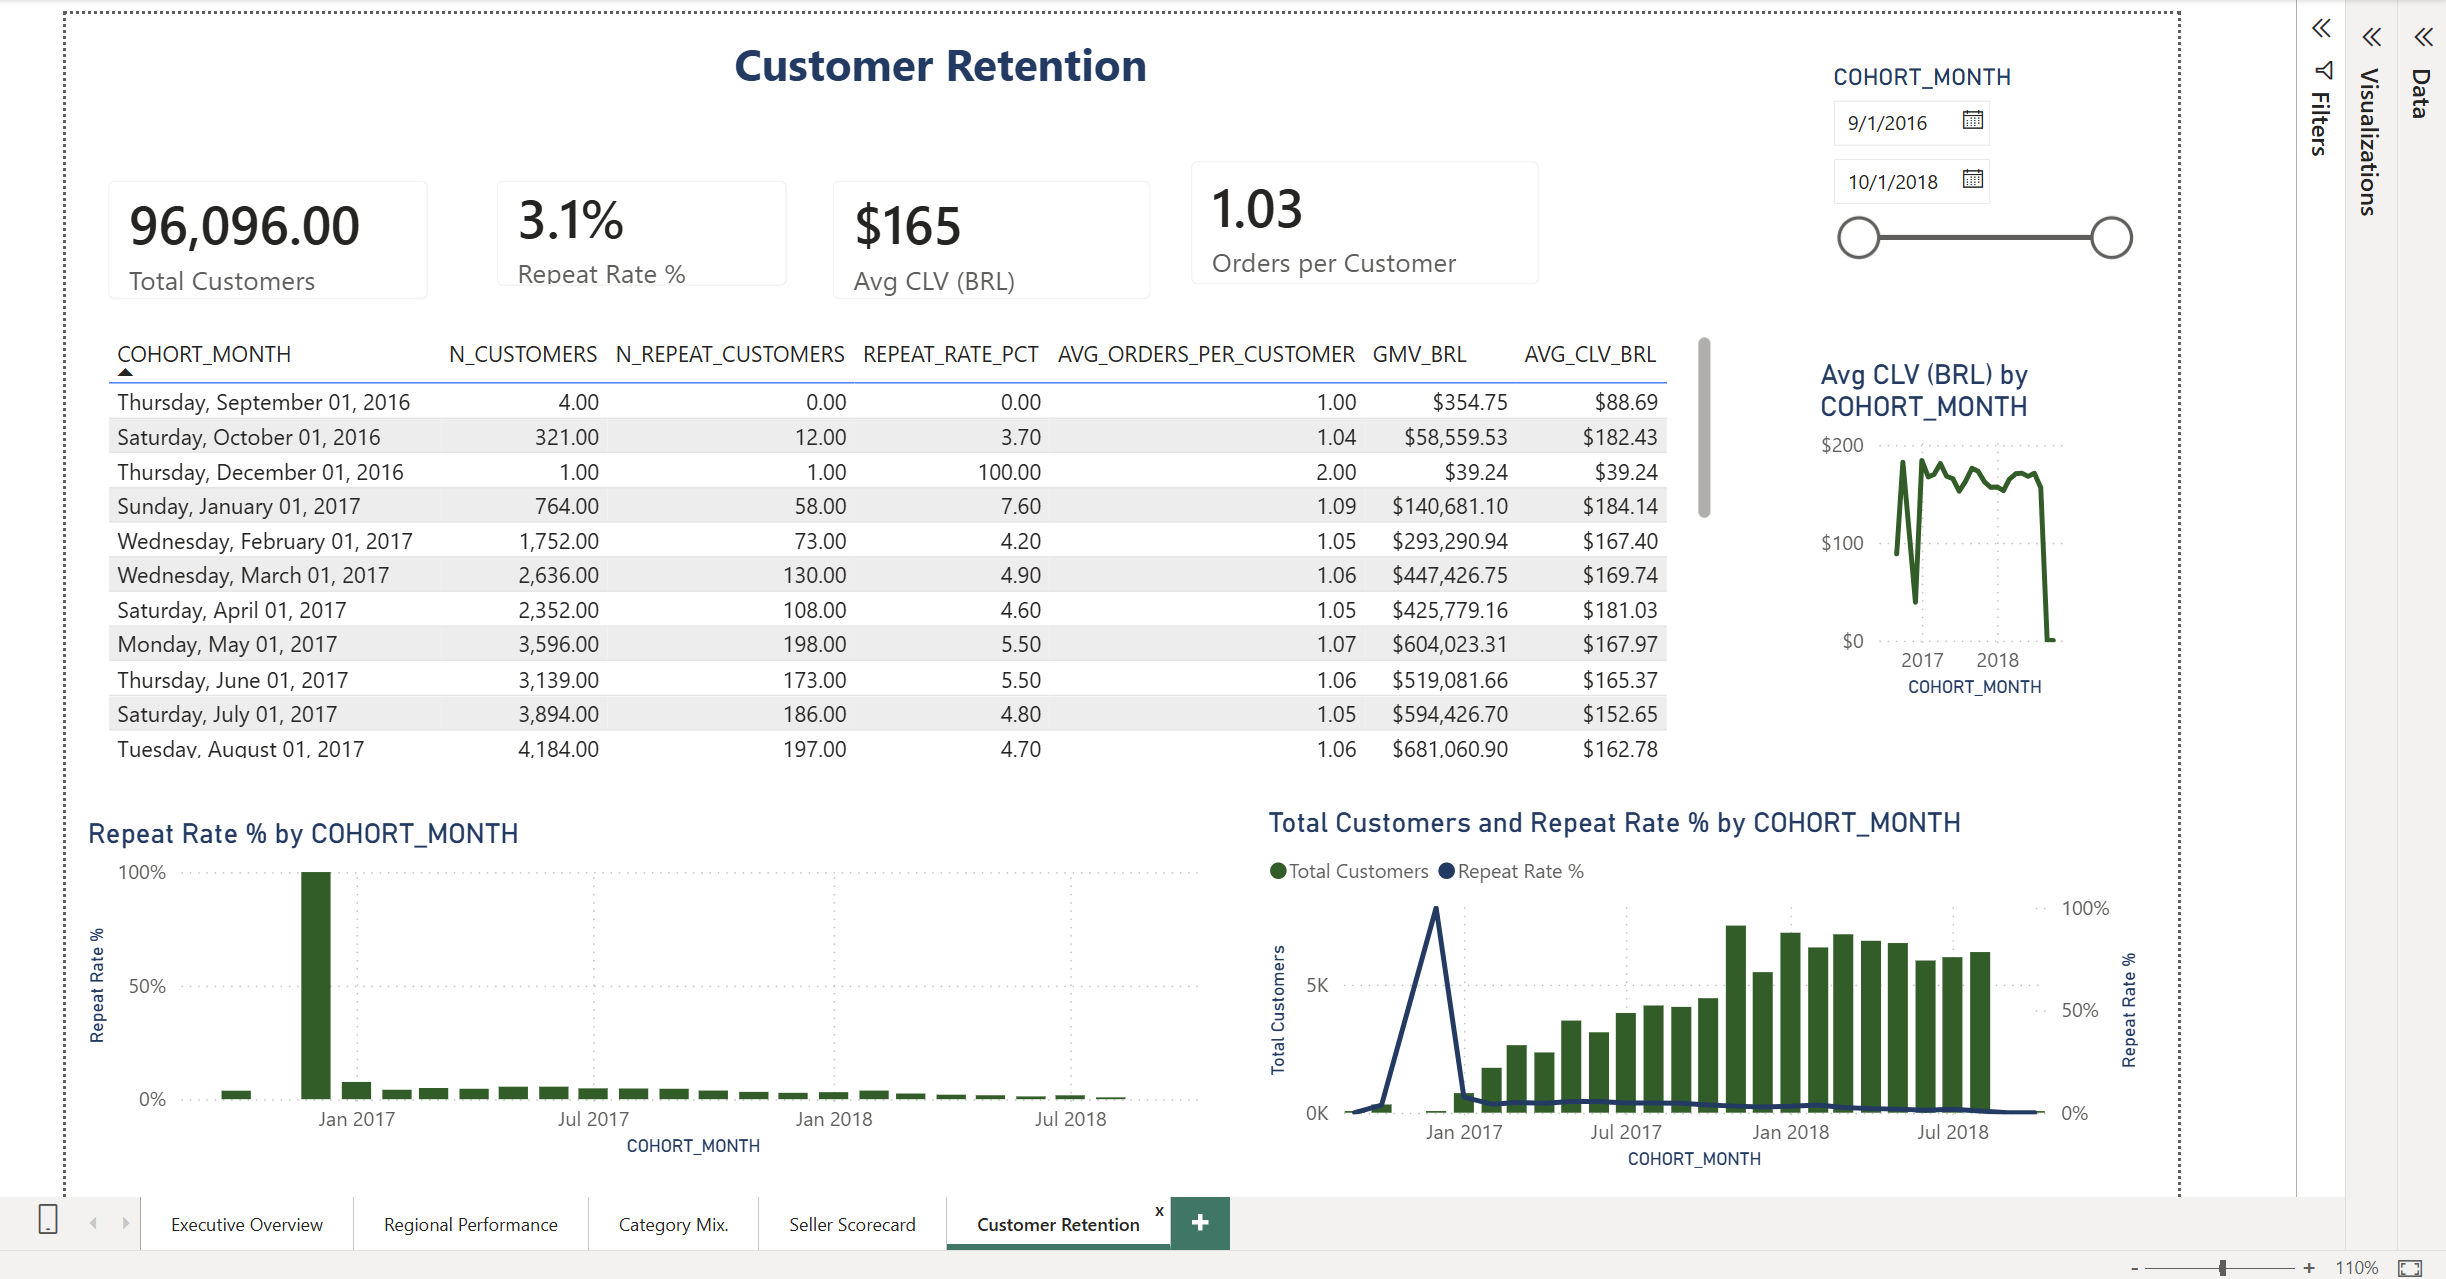

This screenshot's page, from the dashboard's own definition file:
{"tool":"powerbi","page":{"name":" Customer Retention","canvas":[1280,720],"ordinal":4},"visuals":[{"type":"cardVisual","fields":{"Data":["_Measures.Total Customers"]},"box":[8.2,83.6,228.2,106.4],"z":0},{"type":"cardVisual","fields":{"Data":["_Measures.Repeat Rate %"]},"box":[243.6,83.6,210.9,98.2],"z":1000},{"type":"cardVisual","fields":{"Data":["_Measures.Avg CLV (BRL)"]},"box":[447.3,83.6,227.3,106.4],"z":2000},{"type":"cardVisual","fields":{"Data":["_Measures.Orders per Customer"]},"box":[664.5,71.8,245.5,110],"z":3000},{"type":"lineClusteredColumnComboChart","fields":{"Y":["_Measures.Total Customers"],"Y2":["_Measures.Repeat Rate %"],"Category":["MART_CUSTOMER_COHORTS.COHORT_MONTH"]},"box":[723.6,480,537.3,224.5],"z":4000},{"type":"clusteredColumnChart","fields":{"Y":["_Measures.Repeat Rate %"],"Category":["MART_CUSTOMER_COHORTS.COHORT_MONTH"]},"box":[8.2,486.4,701.8,210],"z":5000},{"type":"lineChart","fields":{"Y":["_Measures.Avg CLV (BRL)"],"Category":["MART_CUSTOMER_COHORTS.COHORT_MONTH"]},"box":[1058.1,208.2,163.9,210.2],"z":6000},{"type":"tableEx","fields":{"Values":["MART_CUSTOMER_COHORTS.COHORT_MONTH","MART_CUSTOMER_COHORTS.N_CUSTOMERS","MART_CUSTOMER_COHORTS.N_REPEAT_CUSTOMERS","MART_CUSTOMER_COHORTS.REPEAT_RATE_PCT","MART_CUSTOMER_COHORTS.AVG_ORDERS_PER_CUSTOMER","MART_CUSTOMER_COHORTS.GMV_BRL","MART_CUSTOMER_COHORTS.AVG_CLV_BRL"]},"box":[20.1,190.1,982.6,265.5],"z":7000},{"type":"slicer","fields":{"Values":["MART_CUSTOMER_COHORTS.COHORT_MONTH"]},"box":[1057.9,24.3,202.8,173.8],"z":8000},{"type":"textbox","box":[867,0,149.9,49.3],"z":9000},{"type":"textbox","box":[400,6.4,274.5,52.7],"z":9001}]}

Visuals, with their boxes on the page's 1280x720 design canvas (x1, y1, x2, y2). These are canvas units, not pixel positions in the 2446x1279 screenshot, which may show the page scaled, cropped or inside an application window:
cardVisual - _Measures.Total Customers: select_region(8, 84, 236, 190)
cardVisual - _Measures.Repeat Rate %: select_region(244, 84, 454, 182)
cardVisual - _Measures.Avg CLV (BRL): select_region(447, 84, 675, 190)
cardVisual - _Measures.Orders per Customer: select_region(664, 72, 910, 182)
lineClusteredColumnComboChart - _Measures.Total Customers x _Measures.Repeat Rate %: select_region(724, 480, 1261, 704)
clusteredColumnChart - _Measures.Repeat Rate % x MART_CUSTOMER_COHORTS.COHORT_MONTH: select_region(8, 486, 710, 696)
lineChart - _Measures.Avg CLV (BRL) x MART_CUSTOMER_COHORTS.COHORT_MONTH: select_region(1058, 208, 1222, 418)
tableEx - MART_CUSTOMER_COHORTS.COHORT_MONTH x MART_CUSTOMER_COHORTS.N_CUSTOMERS: select_region(20, 190, 1003, 456)
slicer - MART_CUSTOMER_COHORTS.COHORT_MONTH: select_region(1058, 24, 1261, 198)
textbox: select_region(867, 0, 1017, 49)
textbox: select_region(400, 6, 674, 59)
